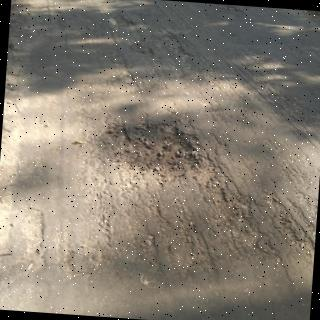pothole: (102, 116, 221, 190)
